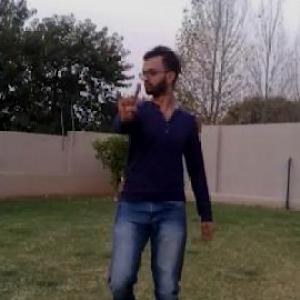takeoff-hand: (112, 74, 147, 122)
